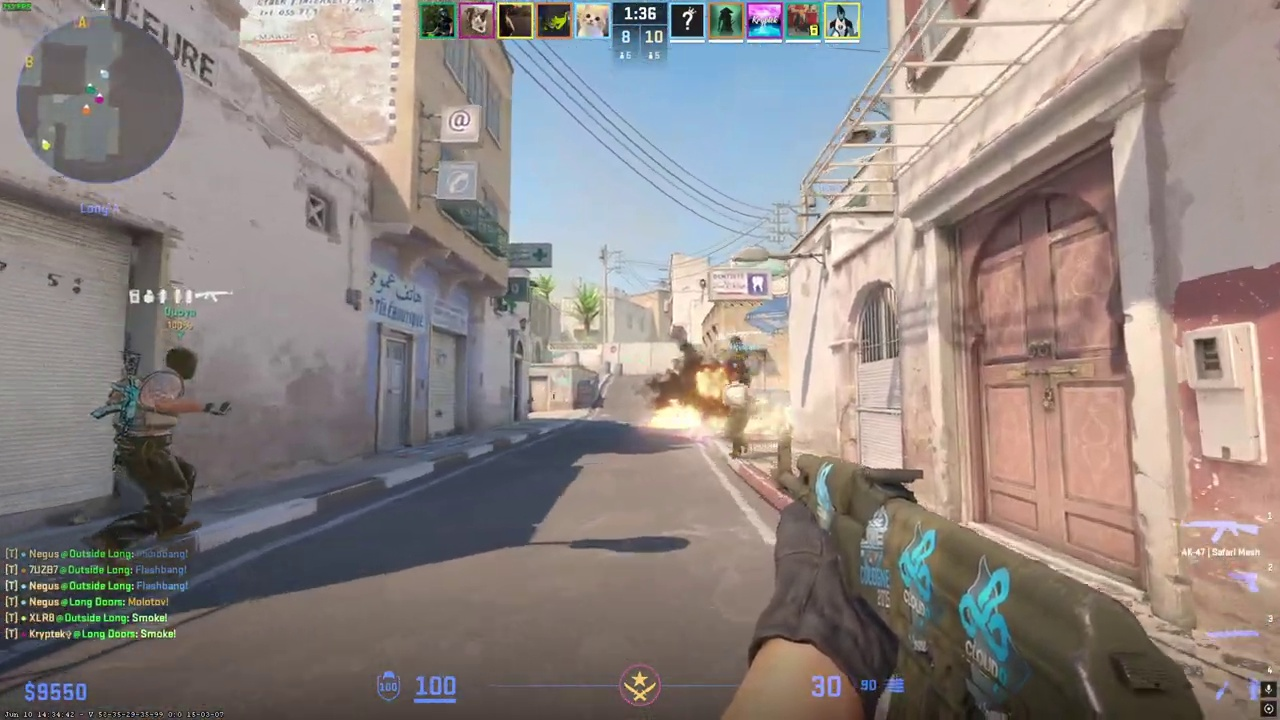Terrorist: (91, 346, 213, 577), (721, 374, 754, 459)
